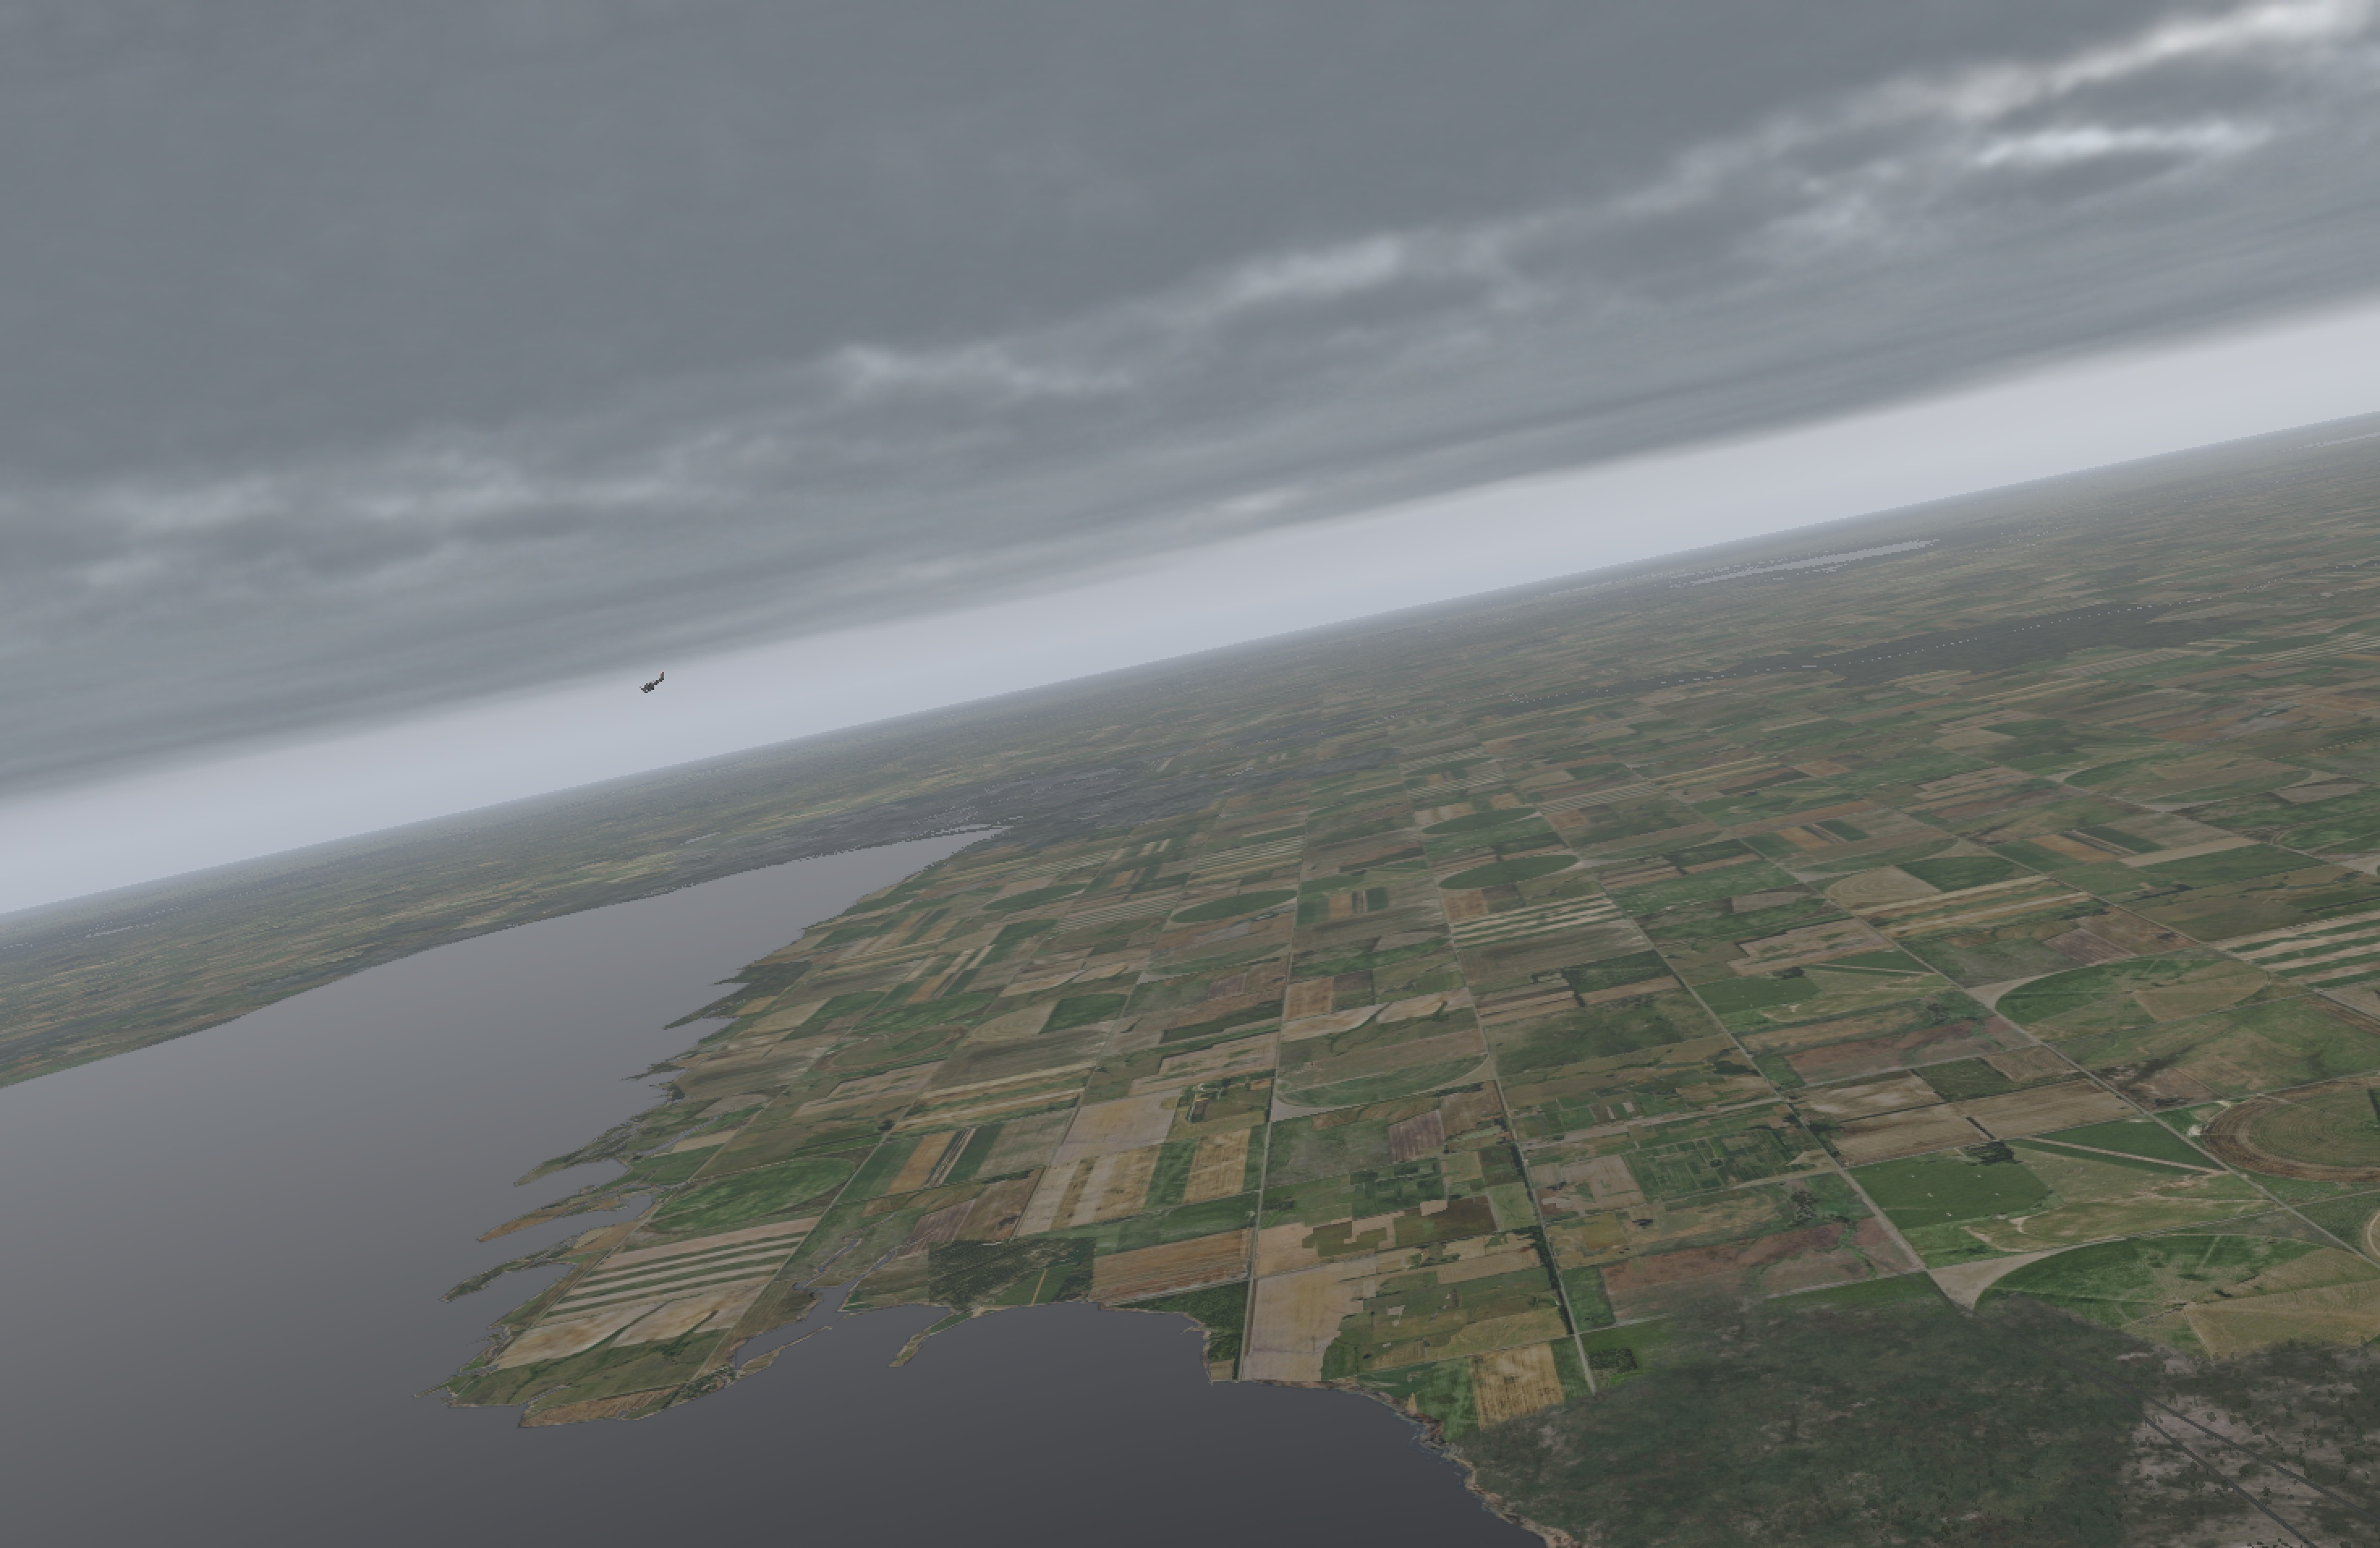aircraft: (635, 680, 663, 691)
